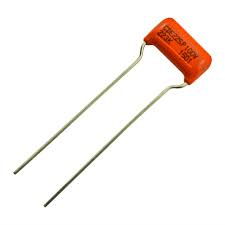ceramic capacitor: (113, 13, 225, 100)
